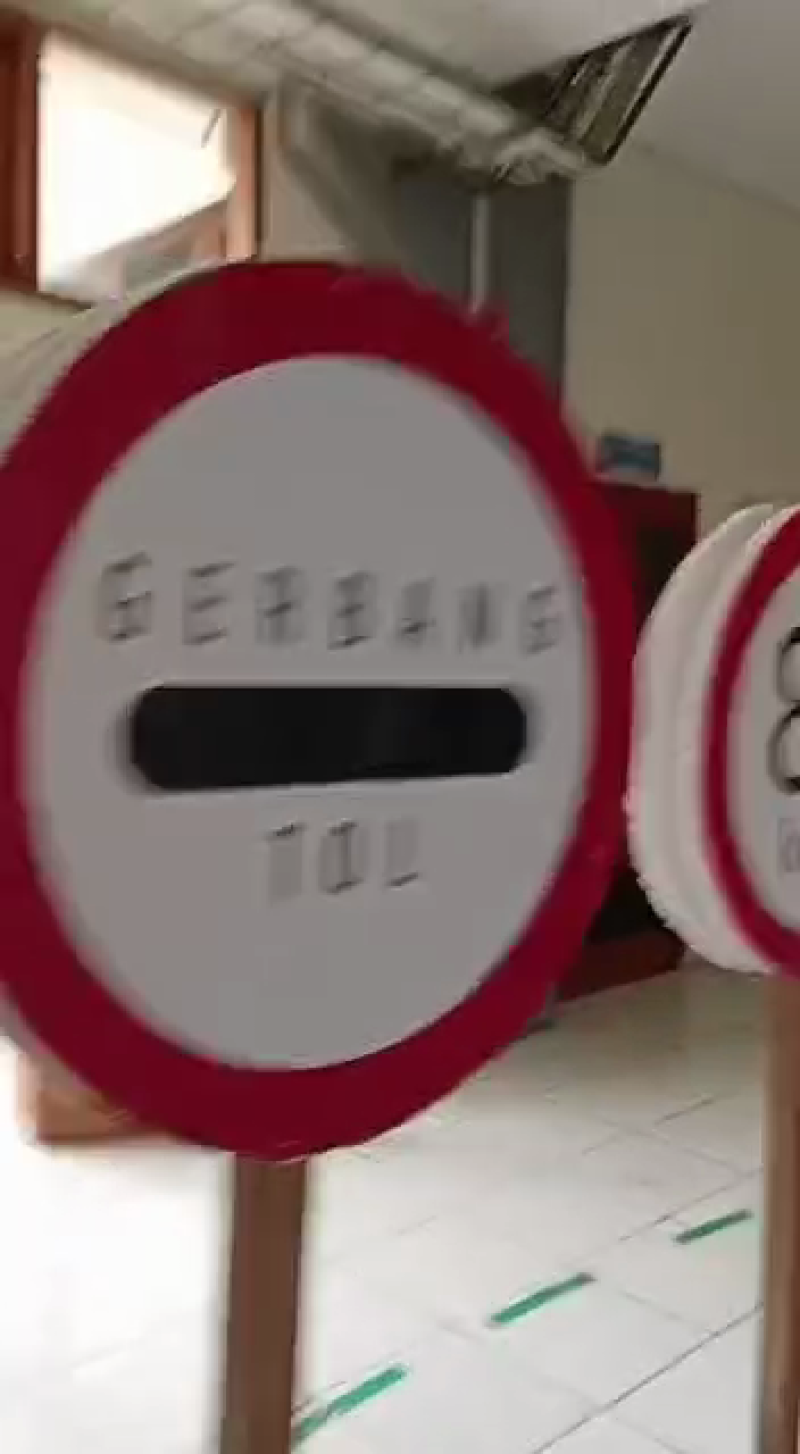gerbang tol: (1, 269, 634, 1160)
